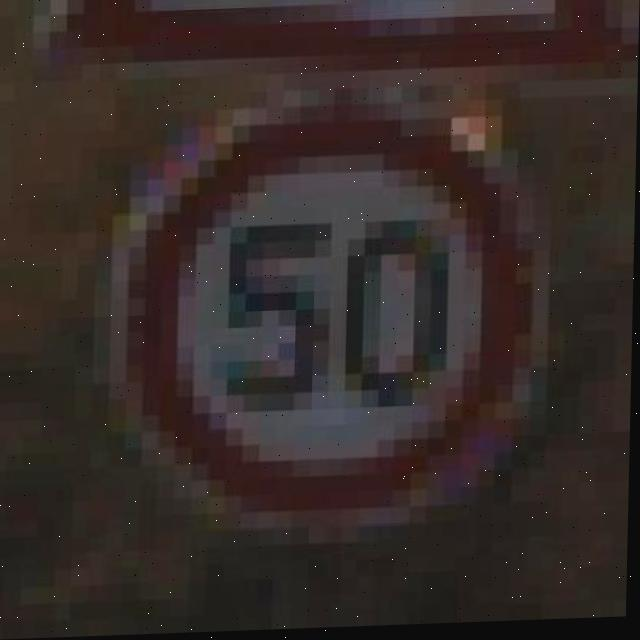Speed limit 50: (101, 76, 553, 536)
